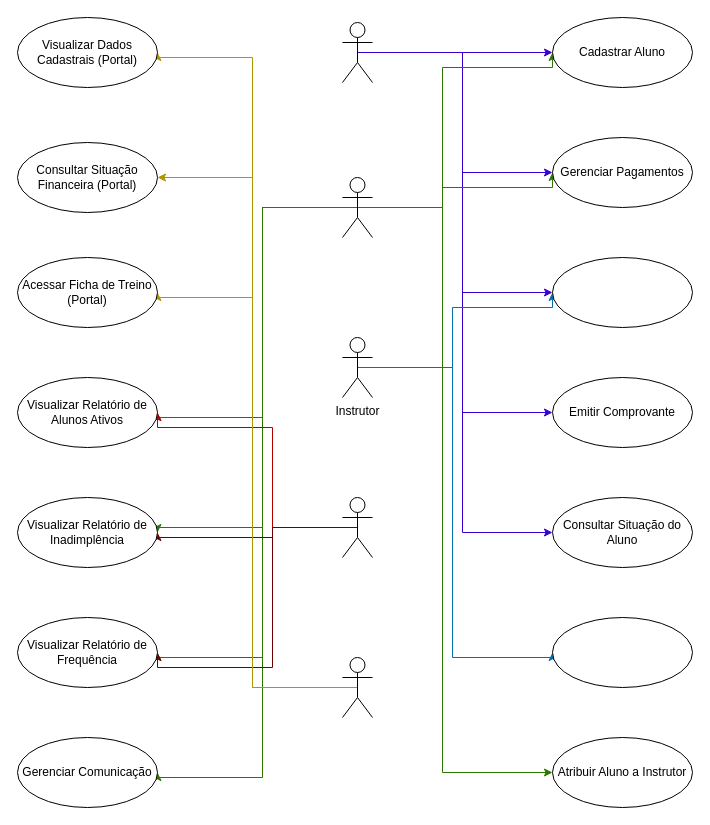
Image size: 710x825. Some labels were removed from this diagram. Here are the shapes that lost their labels. From the top down, the centre of each, then its label:
At (357,52): "Atendente".
At (357,207): "Gerente".
At (622,292): "Registrar Presença".
At (357,527): "Diretoria".
At (622,652): "Gerenciar Fichas de Treino".
At (357,687): "Aluno".
